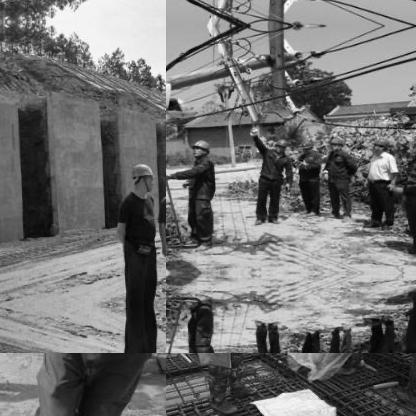Helmet: (130, 159, 154, 193), (188, 136, 210, 158), (370, 132, 388, 154), (271, 134, 287, 152), (328, 133, 342, 151), (299, 136, 313, 152), (409, 133, 415, 154)
